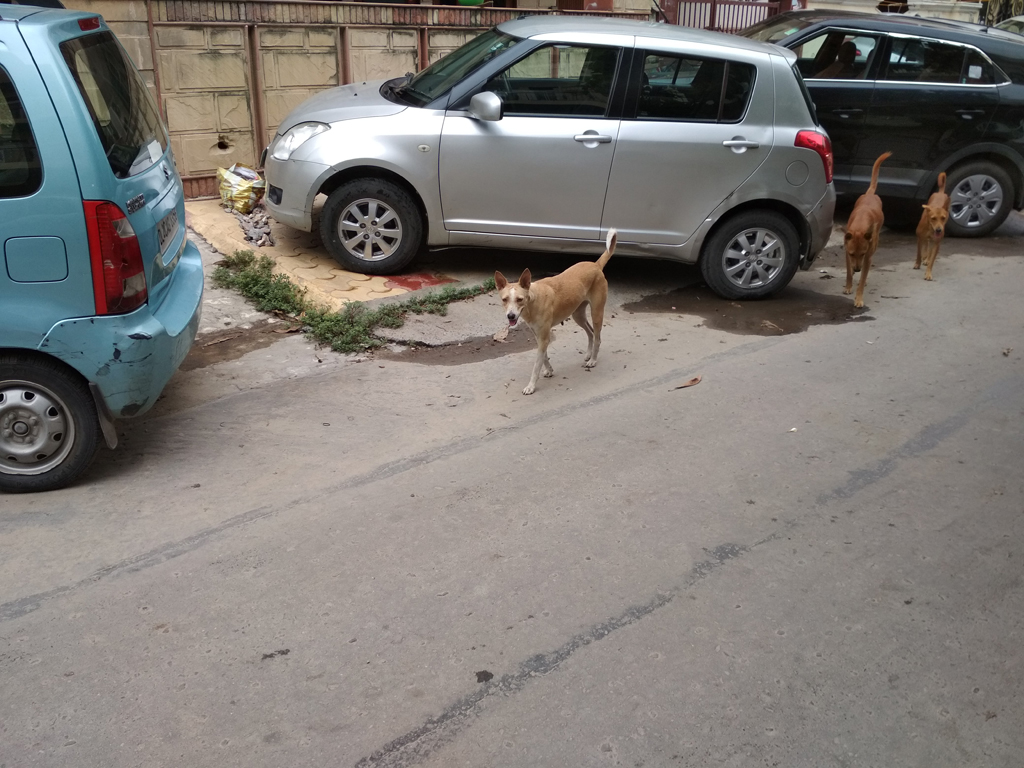dog: (493, 228, 618, 395), (836, 149, 893, 308), (910, 171, 953, 281)
